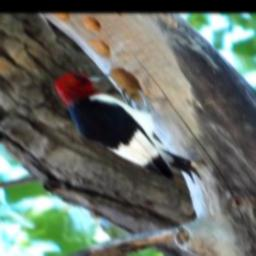Woodpecker: (57, 71, 207, 183)
